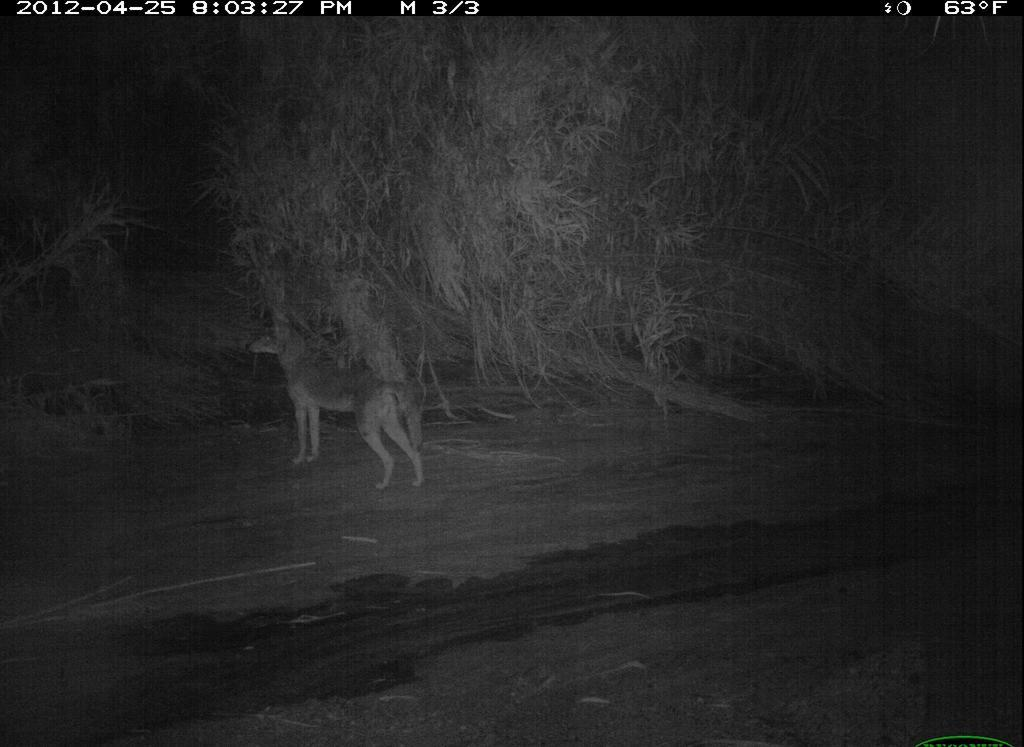coyote: (249, 313, 429, 491)
